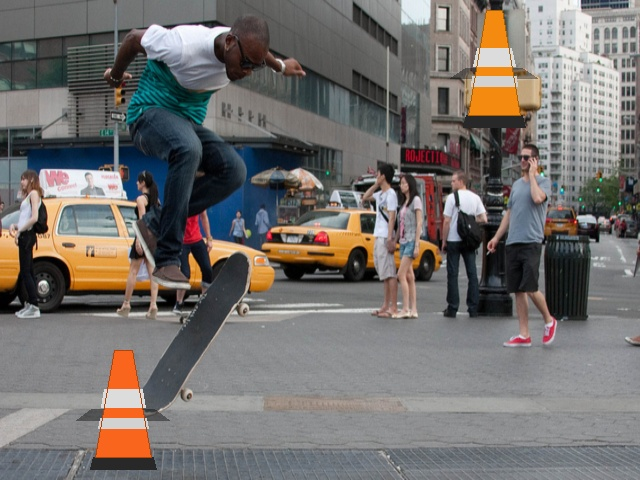traffic-cone: (90, 350, 156, 469), (463, 10, 525, 127)
